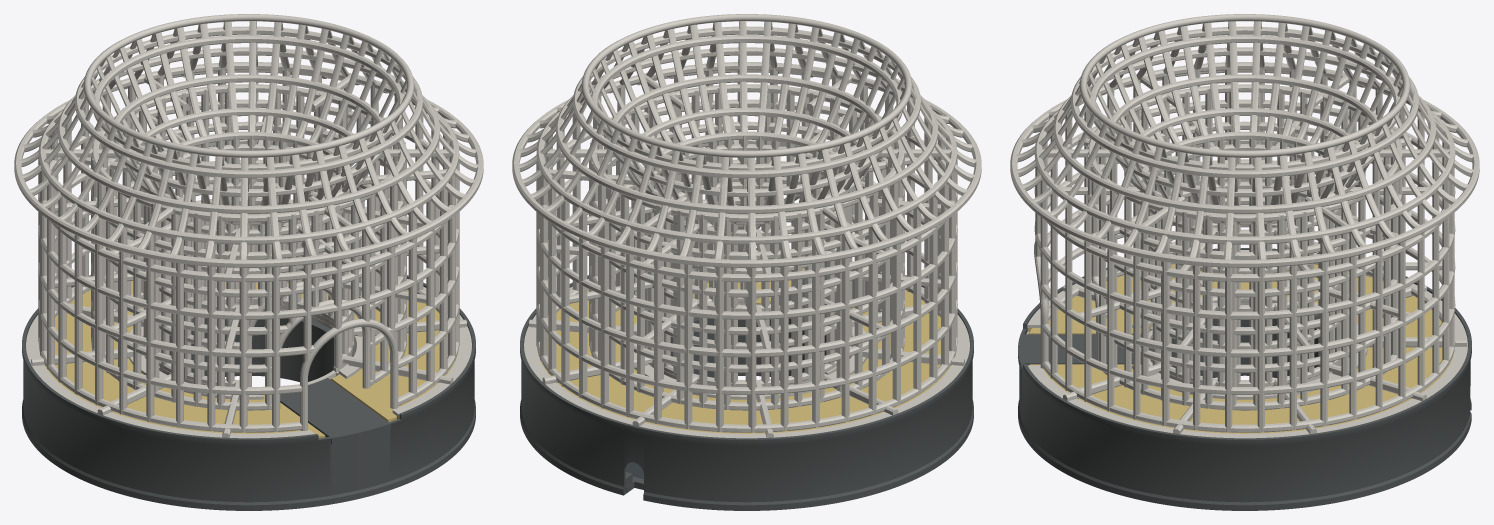
The model's file is Tulou-lamp.glb.
The picture shows the model from 3 angles, left to right: view 1: azimuth 30°, elevation 25°; view 2: azimuth 150°, elevation 25°; view 3: azimuth 270°, elevation 25°; orthographic projection.
Parts seen in each view (by area): view 1: B1, A1, D1; view 2: B1, A1, D1; view 3: B1, A1, D1.
Part boxes in pixels (x1,y1,x2,y2): B1: [14, 14, 483, 438]; A1: [22, 275, 475, 510]; D1: [39, 272, 458, 438]; B1: [512, 14, 981, 438]; A1: [520, 248, 973, 510]; D1: [537, 268, 956, 433]; B1: [1010, 14, 1479, 438]; A1: [1018, 248, 1471, 510]; D1: [1027, 264, 1454, 433].
Size of the model in its own units: 207 by 162 by 207.
